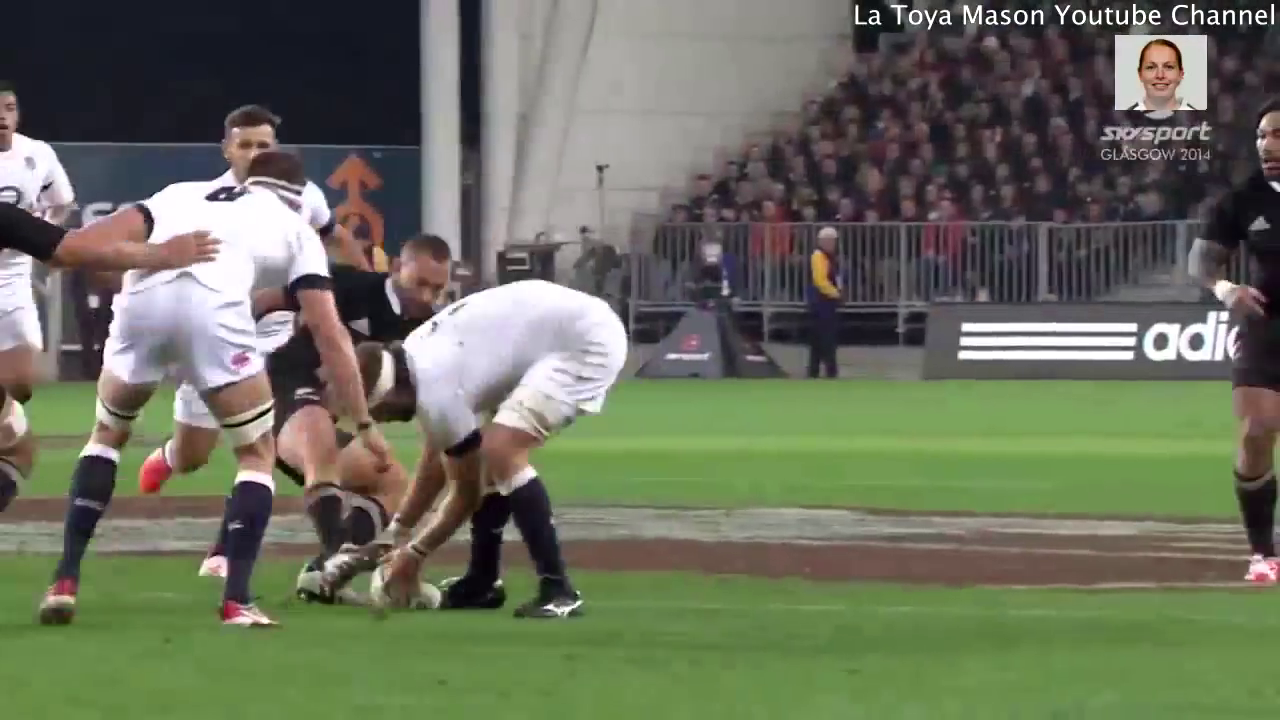ball: (362, 542, 445, 622)
player: (36, 135, 340, 641), (340, 276, 629, 633), (1180, 103, 1277, 600), (1, 88, 75, 495), (324, 223, 464, 337), (198, 108, 285, 174)
